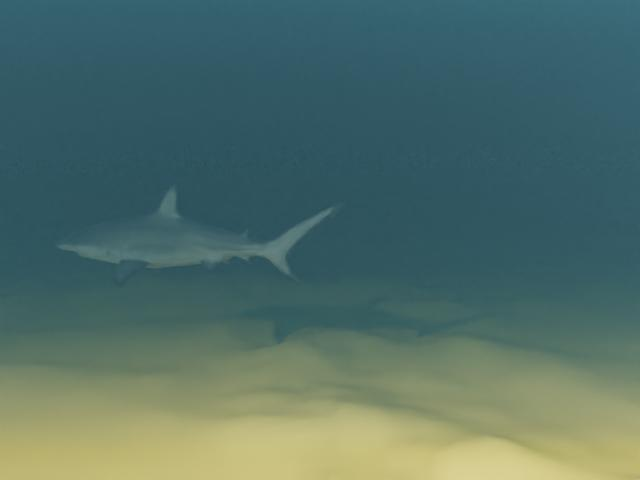Carribean Shark.001: (56, 183, 346, 287)
